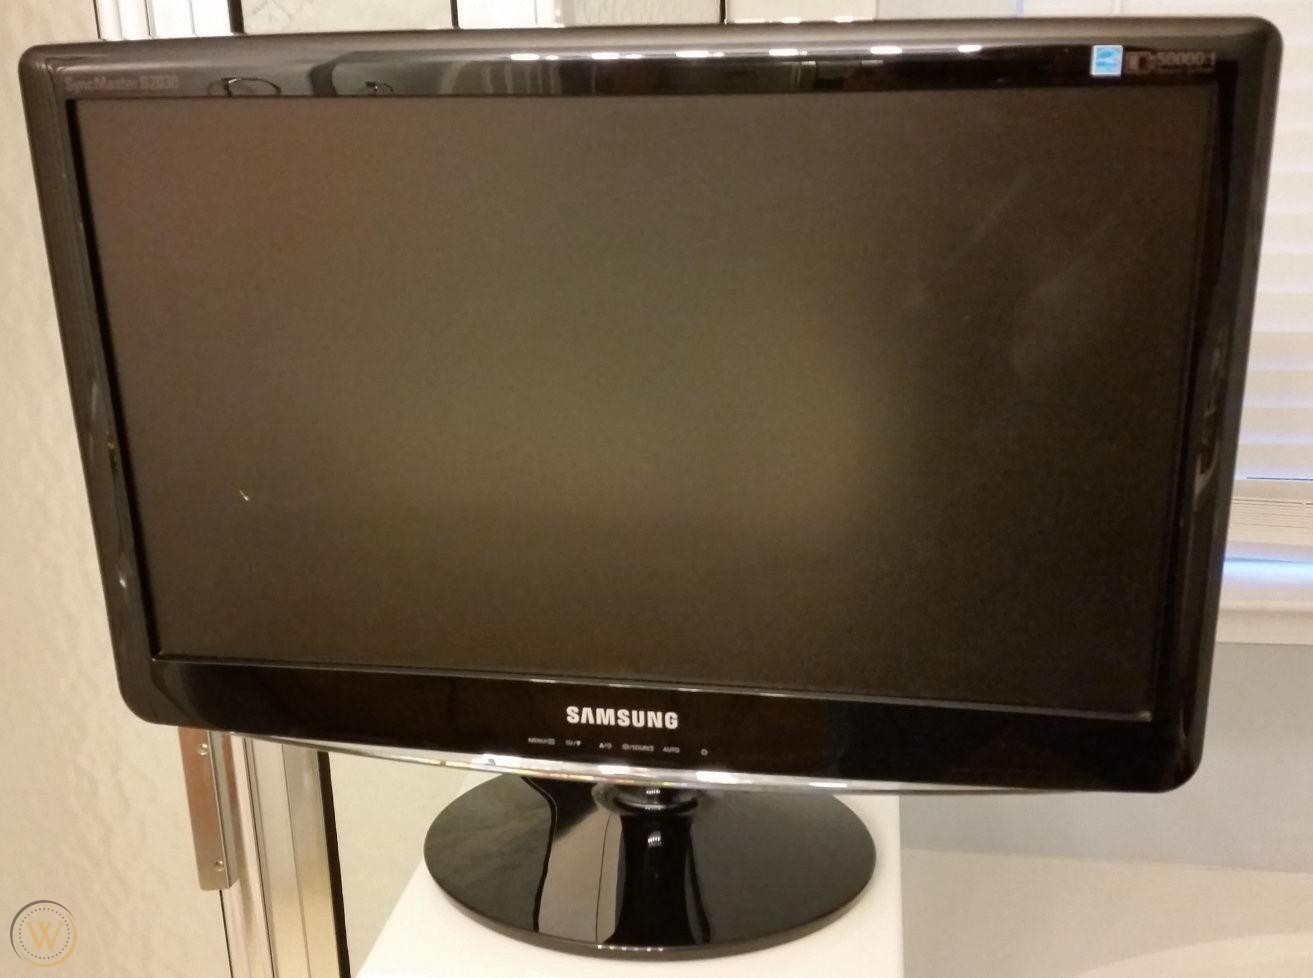samsung-monitor-b2030: (34, 4, 1297, 963)
